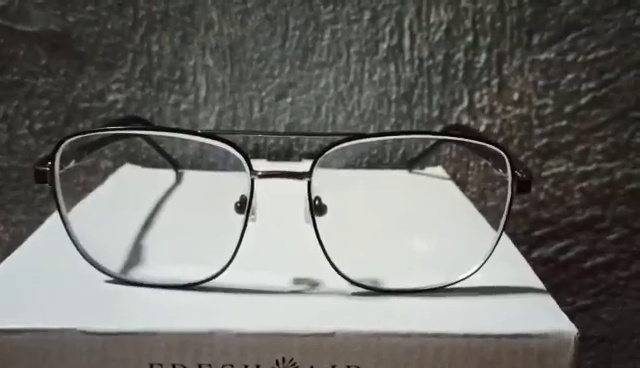glasses: (35, 120, 531, 291)
